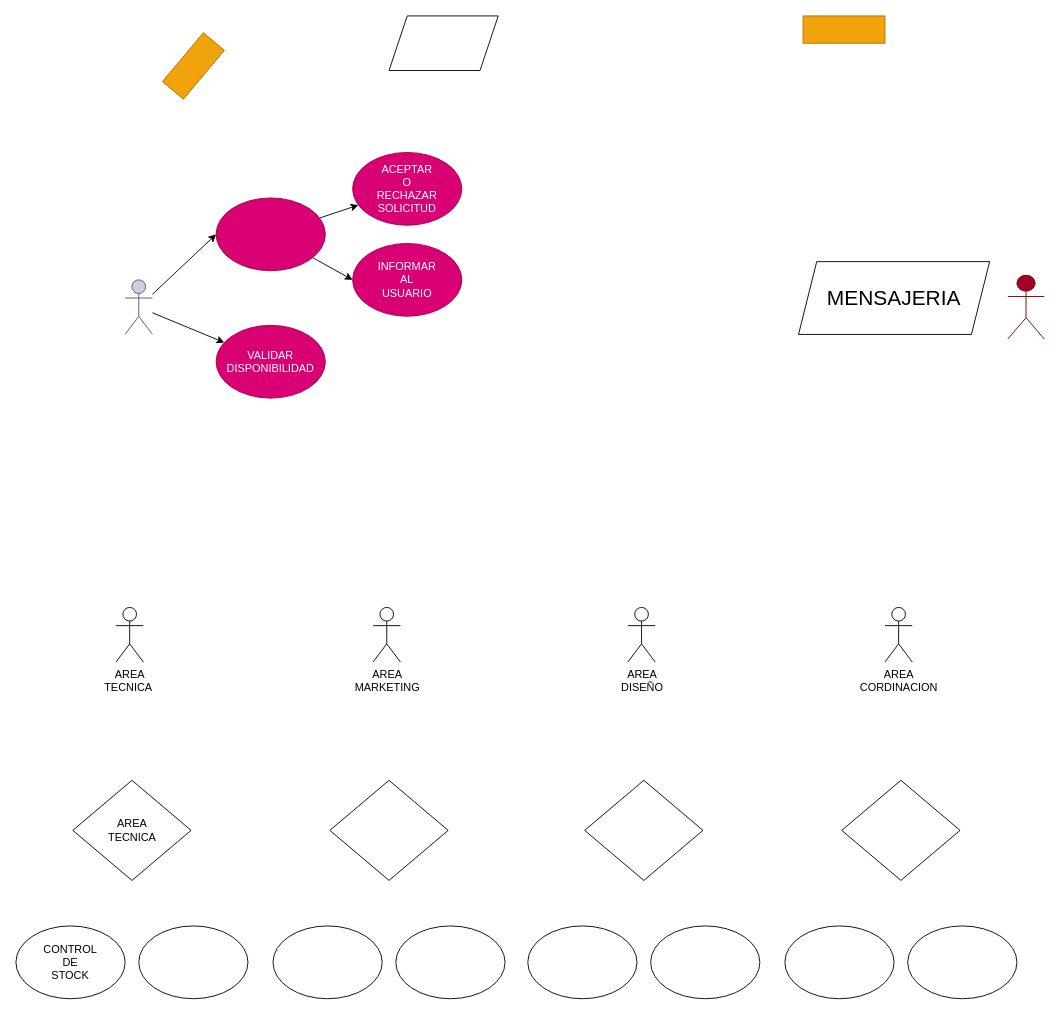
The diagram is 1060 pixels wide and 1015 high, and some of its shapes have lost their labels. Here are the shapes that lost their labels. From the top down, the centre of each, then its label:
At (x=443, y=43): "SELECCION DE AREAS".
At (x=843, y=29): "INCLUDE".
At (x=192, y=65): "EXTEND".
At (x=270, y=234): "SOLICITAR EVENTO".
At (x=138, y=306): "USUARIO O SOLICITANTE".
